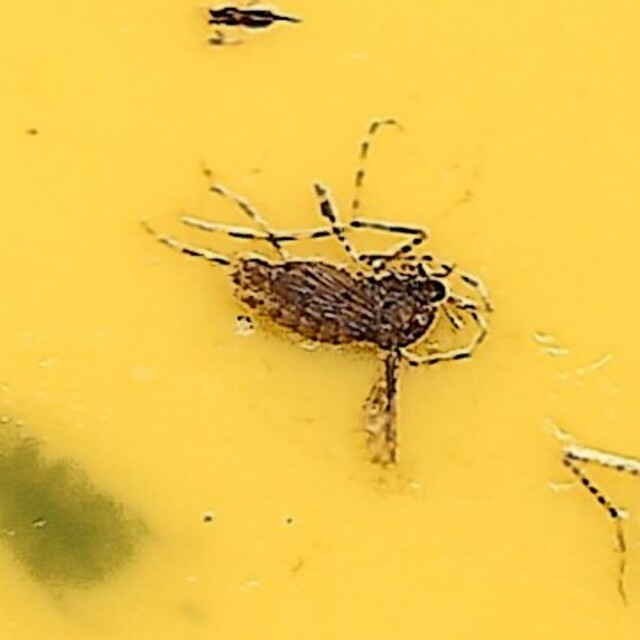Nematocera: (177, 155, 463, 485)
